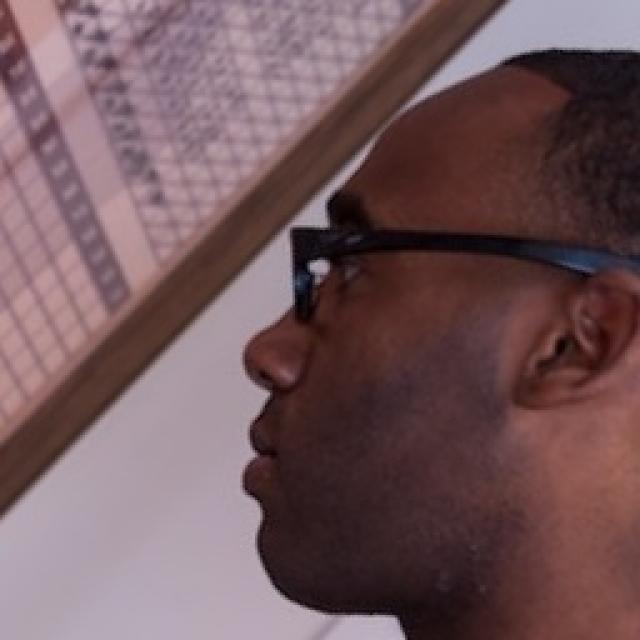glasses: (282, 214, 640, 324)
